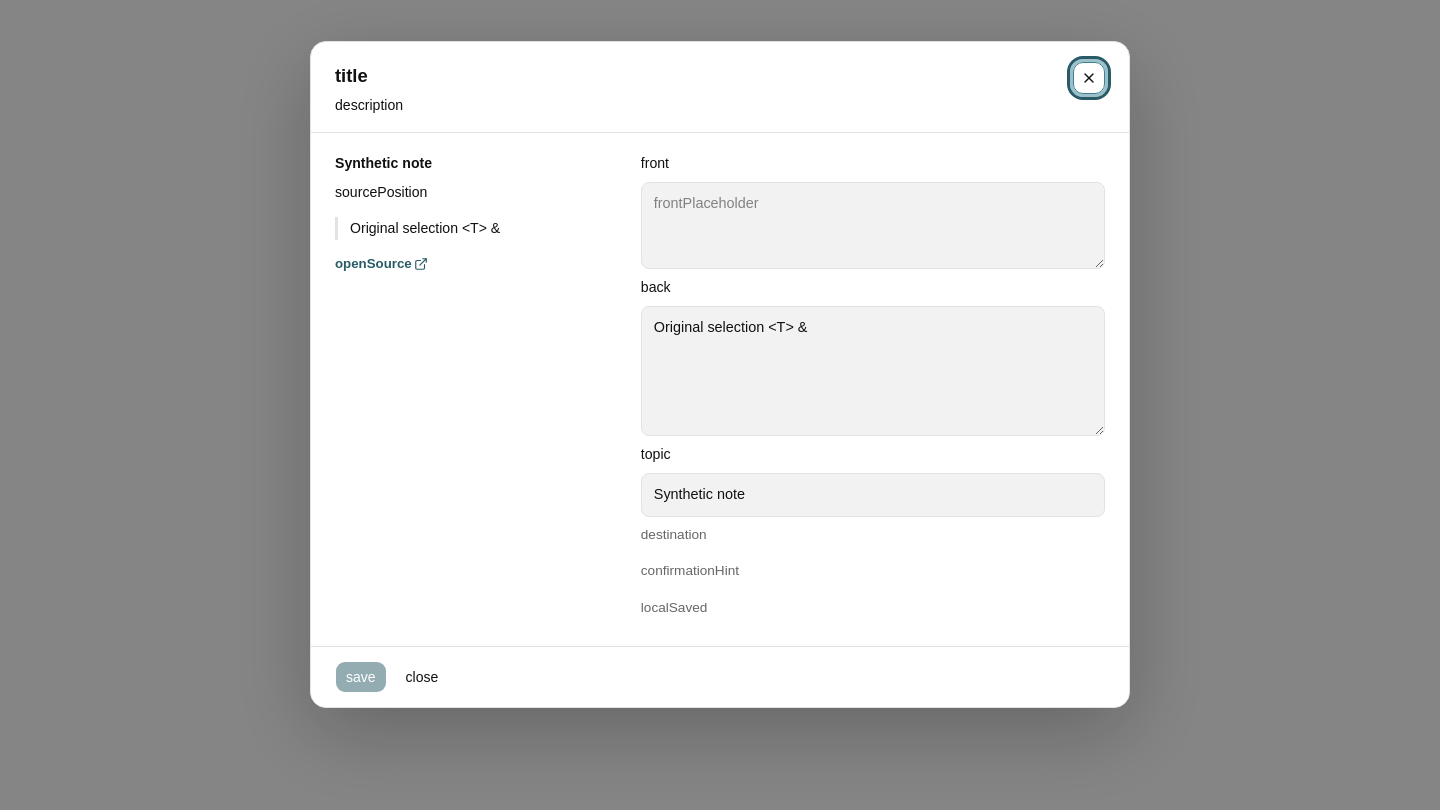
prefills only the answer and requires the user to confirm their own question
The width and height of the screenshot is (1440, 810).
Expected: the text box labelled "back" holds "Original selection <T> &", [641,306,1105,436]
Type "What is the selection?" into the text box labelled "front" at point(873, 226), box [641,182,1105,269]
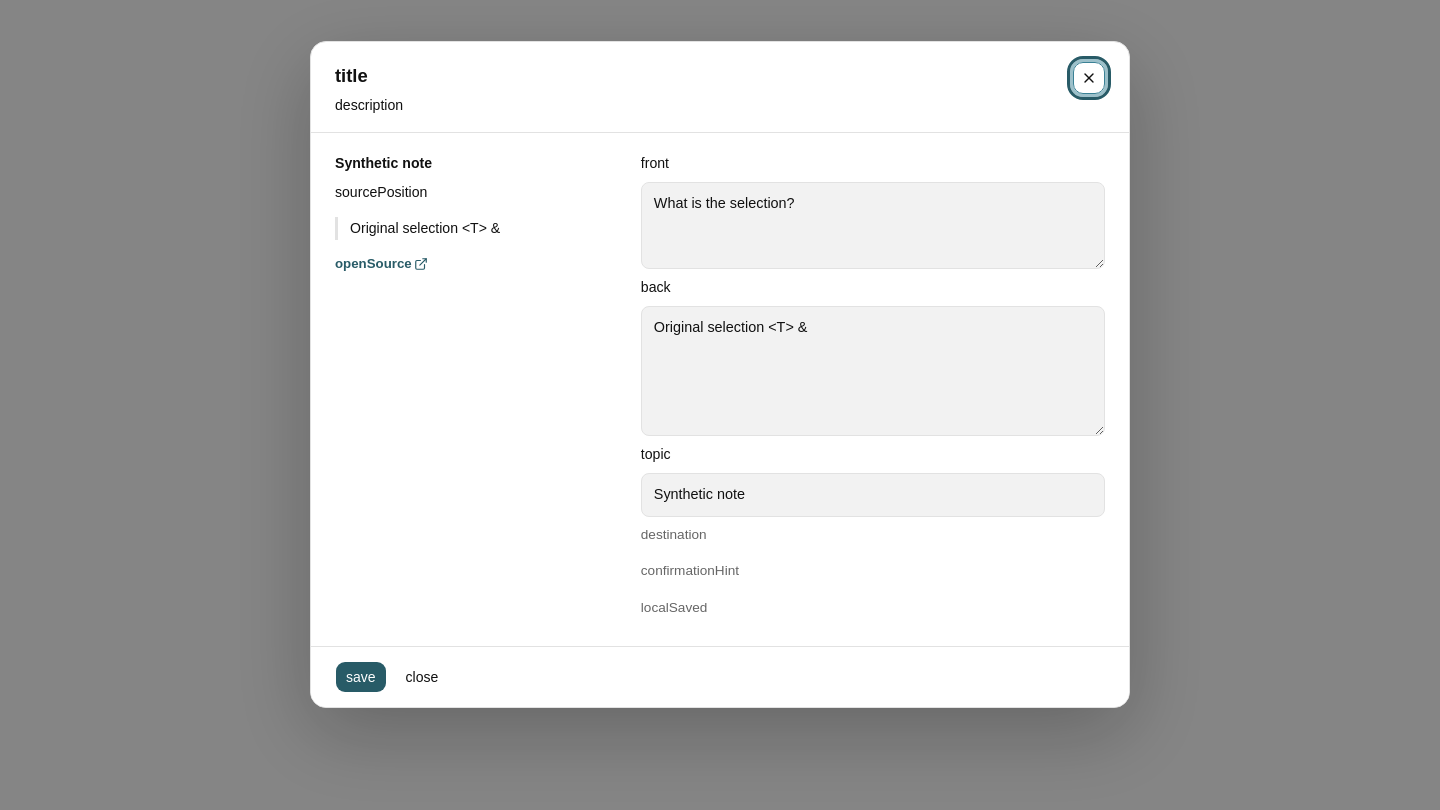
Now the button "save" is enabled
Click the button "save" at point(361, 677), box [335,661,387,693]
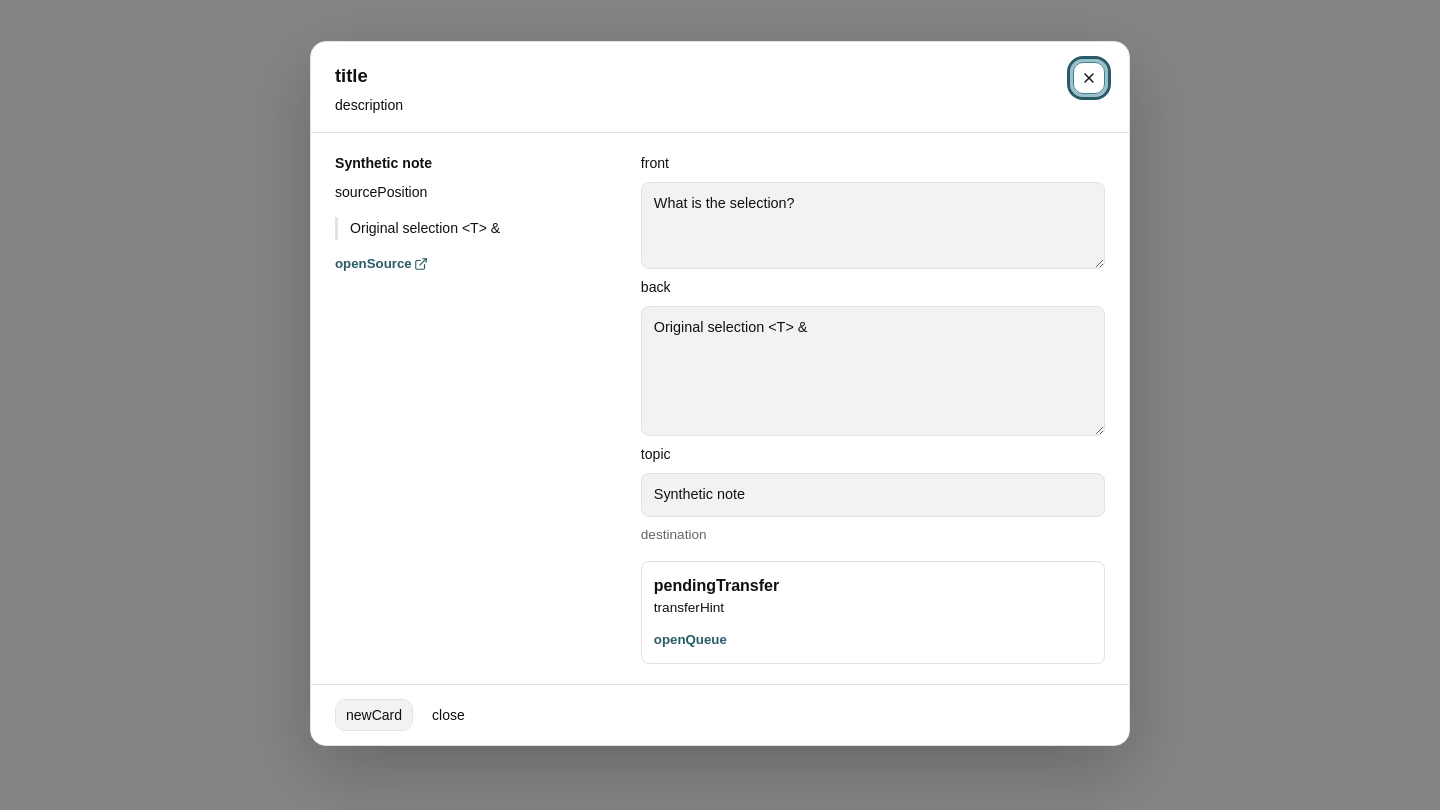
Now the text "pendingTransfer" is shown, box [654,577,779,594]
